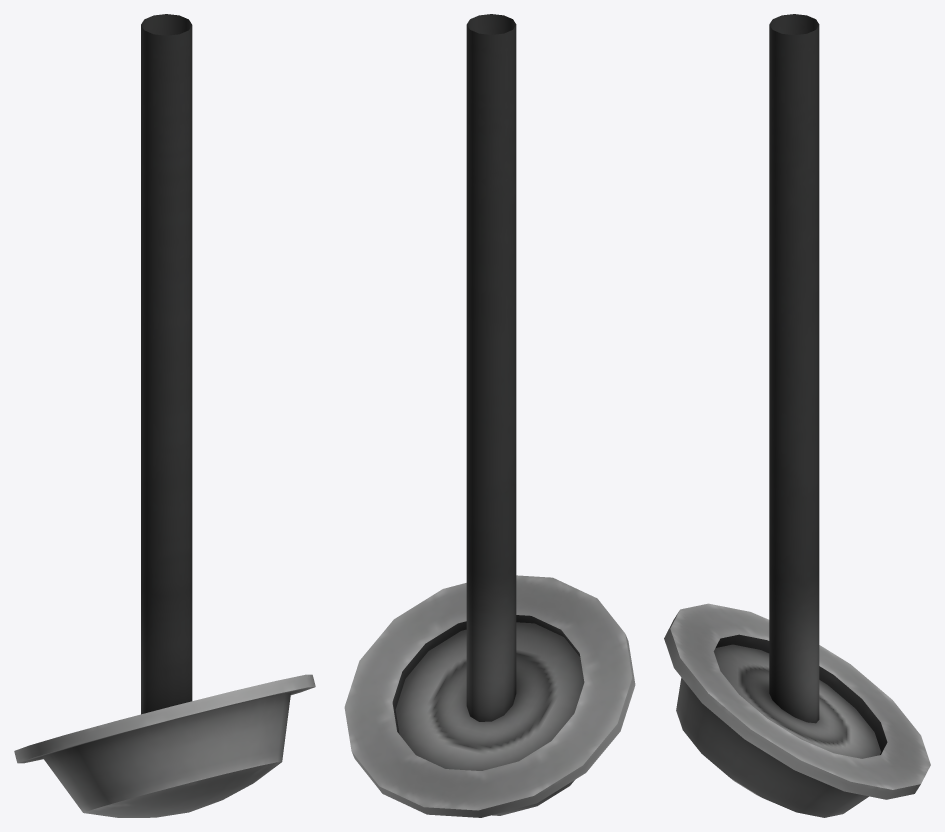
Rendered from lepus_landing_leg_srf_1_lower_leg.obj.
The picture shows the model from 3 angles, left to right: view 1: azimuth 30°, elevation 25°; view 2: azimuth 150°, elevation 25°; view 3: azimuth 270°, elevation 25°; orthographic projection. The views are drawn at different scales.
Visible parts, largest first — view 1: lepus_landing_leg_srf_1_lower_leg; view 2: lepus_landing_leg_srf_1_lower_leg; view 3: lepus_landing_leg_srf_1_lower_leg.
Part boxes in pixels (x1,y1,x2,y2): lepus_landing_leg_srf_1_lower_leg: (14,14,315,817); lepus_landing_leg_srf_1_lower_leg: (344,14,635,817); lepus_landing_leg_srf_1_lower_leg: (664,14,930,817).
Bounding box in the file's own units: 0.3 × 0.8541 × 0.2661.
